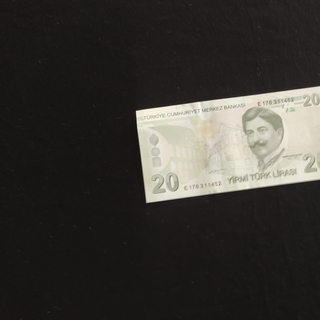20TLBack: (135, 84, 320, 203)
